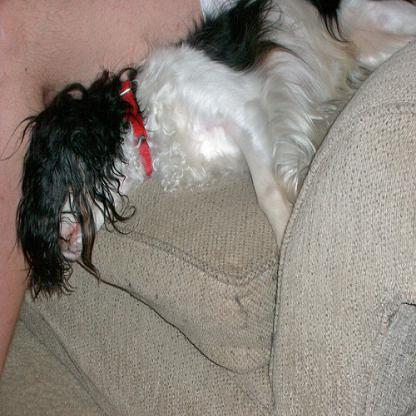dog: (0, 0, 415, 291)
sofa: (0, 41, 415, 415)
